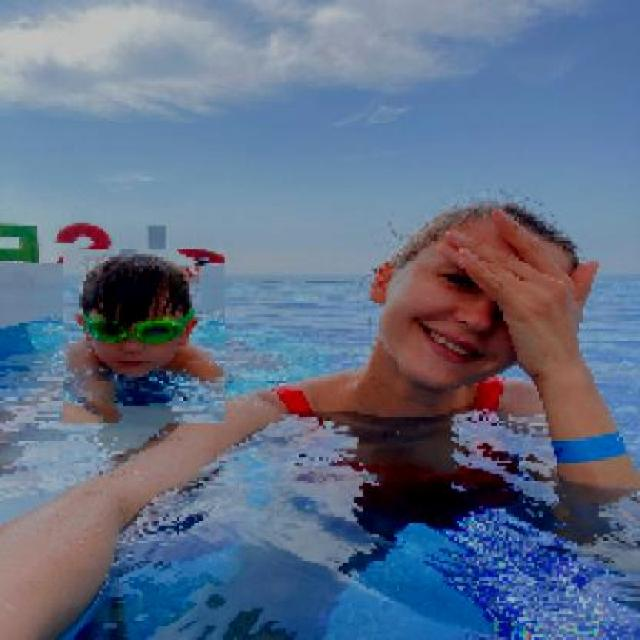child: (62, 249, 225, 425)
